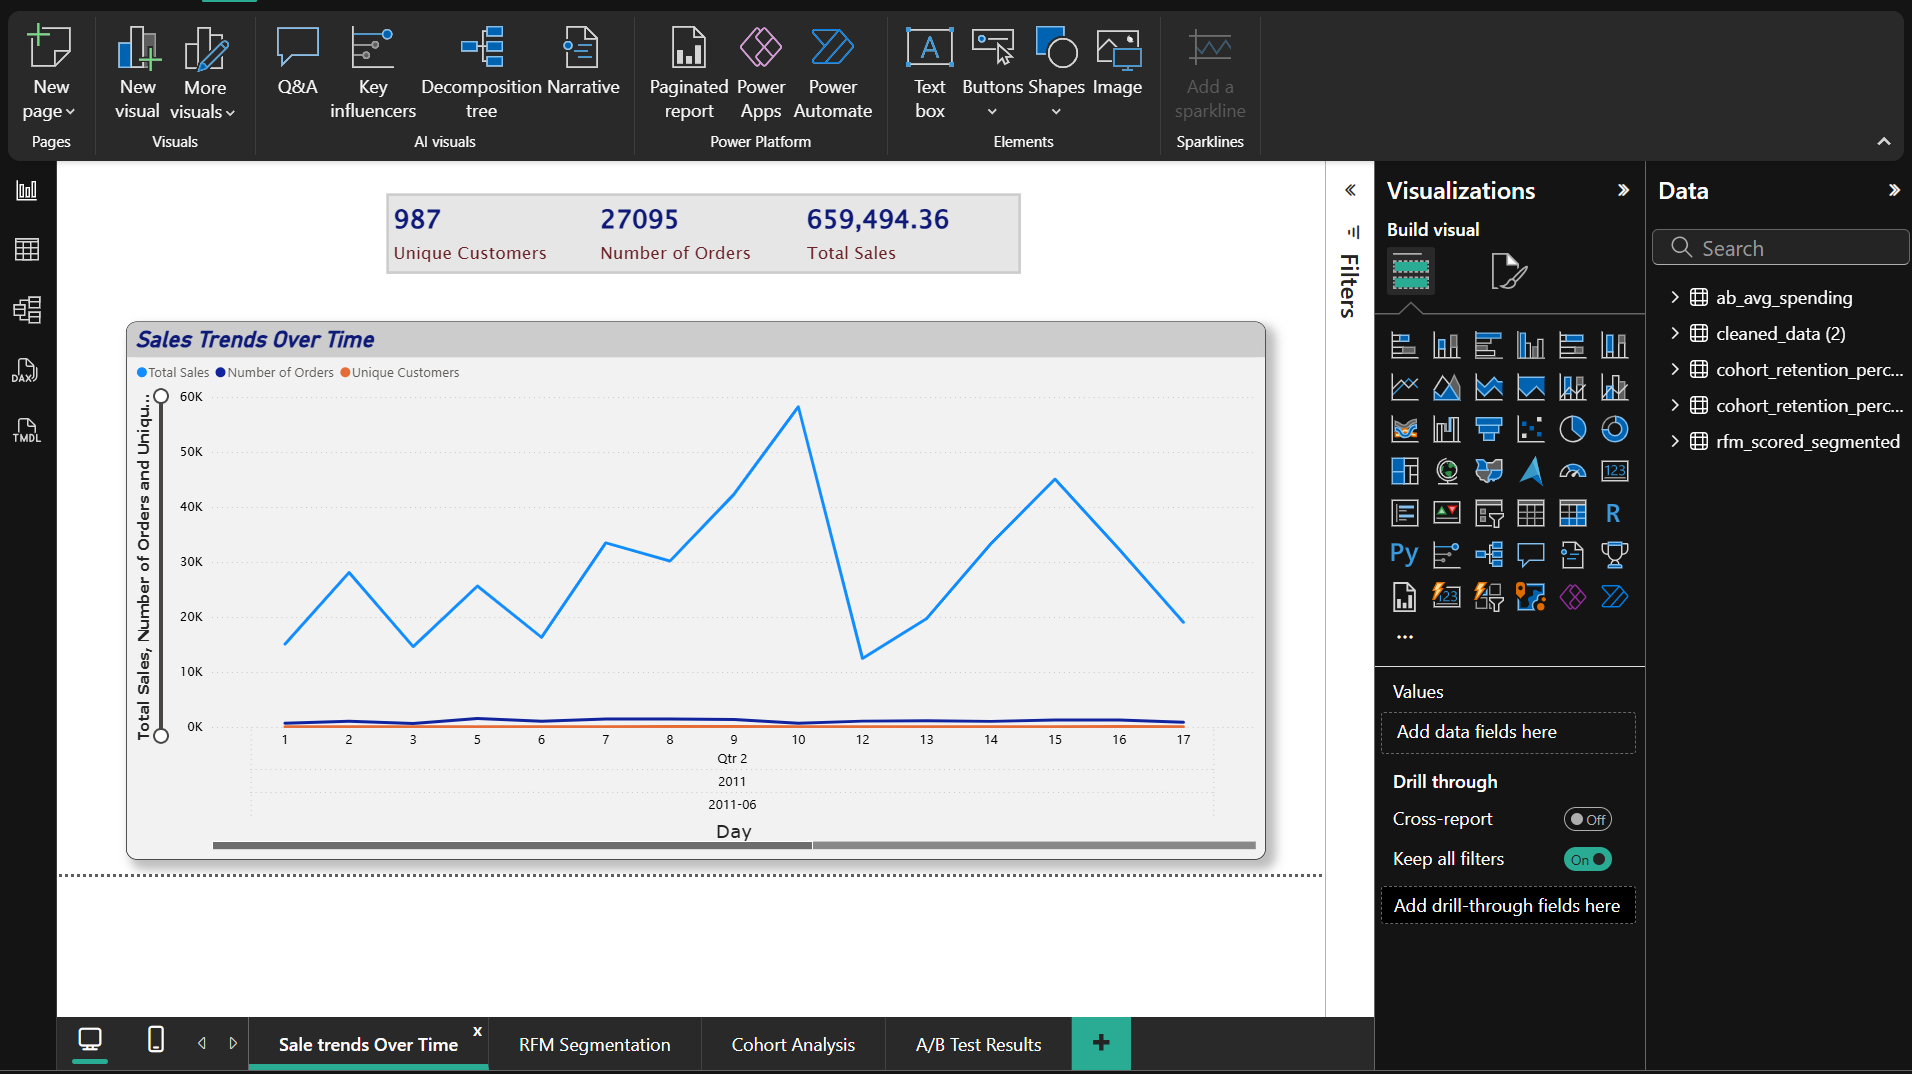

The page's visual inventory and layout, read from the dashboard file:
{"tool":"powerbi","page":{"name":"Sale trends Over Time","canvas":[1280,720],"ordinal":0},"visuals":[{"type":"multiRowCard","fields":{"Values":["cleaned_data (2).CustomerID","CountNonNull(cleaned_data (2).InvoiceNo)","Sum(cleaned_data (2).TotalSales)"]},"box":[327.1,27.3,651.1,99.9],"z":0},{"type":"lineChart","title":"Sales Trends Over Time","fields":{"Category":["cleaned_data (2).OrderMonth","cleaned_data (2).OrderDate.Variation.Date Hierarchy.Year","cleaned_data (2).OrderDate.Variation.Date Hierarchy.Quarter","cleaned_data (2).OrderDate.Variation.Date Hierarchy.Day"],"Y":["Sum(cleaned_data (2).TotalSales)","CountNonNull(cleaned_data (2).InvoiceNo)","Count(cleaned_data (2).CustomerID)"]},"box":[70,162,1150.8,543],"z":1000}]}

Visuals, with their boxes on the page's 1280x720 design canvas (x1, y1, x2, y2). These are canvas units, not pixel positions in the 1912x1074 screenshot, which may show the page scaled, cropped or inside an application window:
multiRowCard - cleaned_data (2).CustomerID x CountNonNull(cleaned_data (2).InvoiceNo): 327, 27, 978, 127
"Sales Trends Over Time" lineChart: 70, 162, 1221, 705
